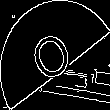O_SE: (28, 22, 82, 88)
